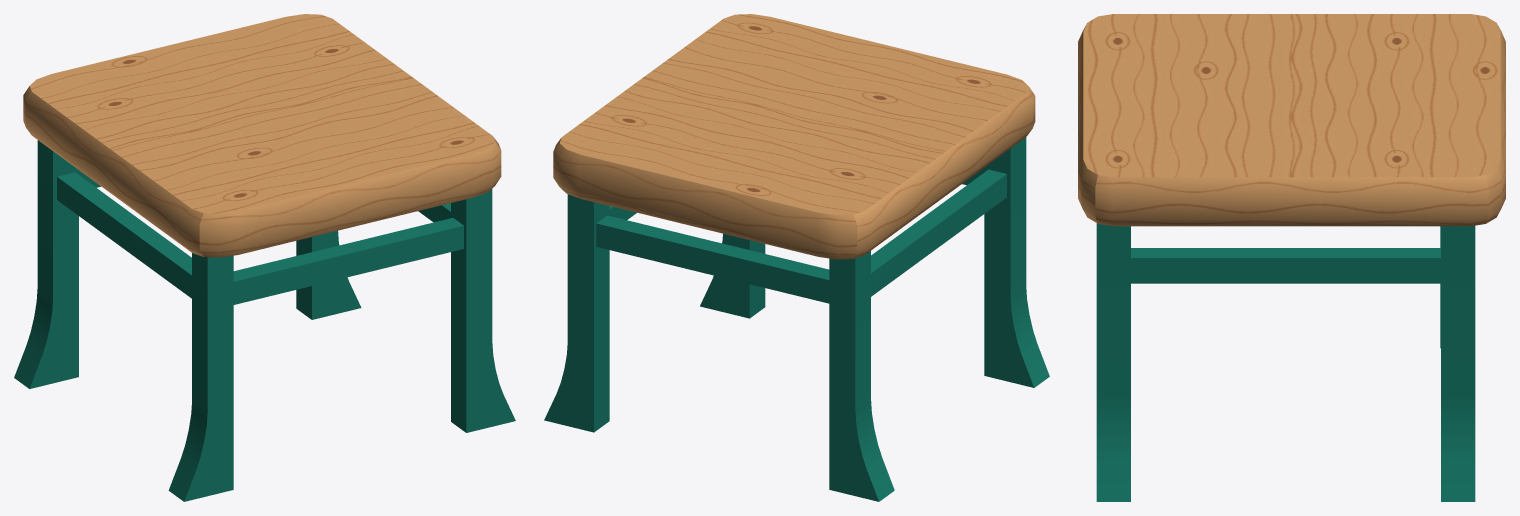
File: table_a.glb
3 views of the same model, side by side, from view 1: azimuth 30°, elevation 25°; view 2: azimuth 150°, elevation 25°; view 3: azimuth 270°, elevation 25° (orthographic). The views are drawn at different scales.
Parts seen in each view (by area): view 1: body; view 2: body; view 3: body.
Part boxes in pixels (<box>): body: <box>14,14,515,501</box>; body: <box>544,14,1049,501</box>; body: <box>1078,14,1505,501</box>.
Size of the model in its own units: 0.92 by 0.75 by 0.92.
2 materials, 1 textured.
